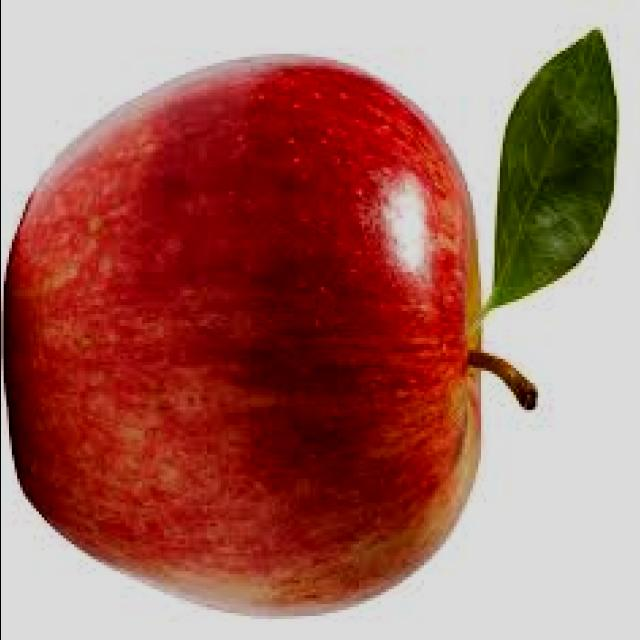non_orange: (0, 36, 510, 637)
